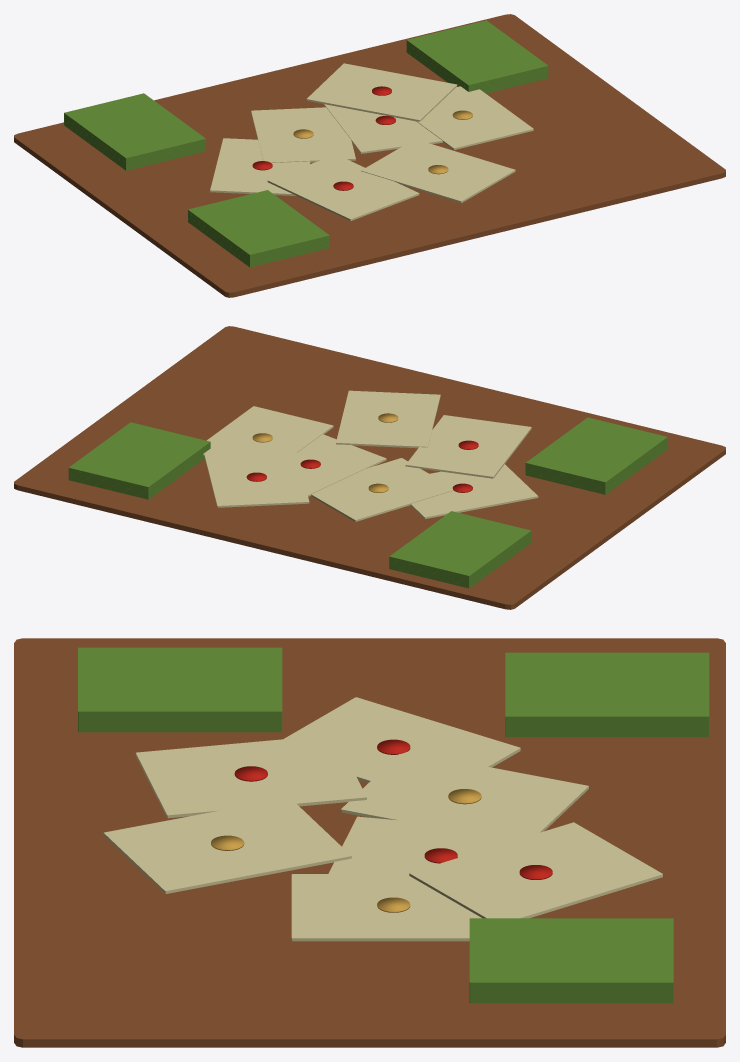
3 renders of one model, top to bottom at view 1: azimuth 30°, elevation 25°; view 2: azimuth 150°, elevation 25°; view 3: azimuth 270°, elevation 25°, orthographic. The views are drawn at different scales.
Parts seen in each view (by area): view 1: TI062 / wooden game surface, TI062 / stacked green-backed card.023, TI062 / stacked green-backed card.015, TI062 / stacked green-backed card.007, TI062 / ivory card.006, TI062 / ivory card.005, TI062 / ivory card.004, TI062 / ivory card.001, TI062 / ivory card.003, TI062 / ivory card, TI062 / ivory card.002; view 2: TI062 / wooden game surface, TI062 / stacked green-backed card.007, TI062 / stacked green-backed card.015, TI062 / stacked green-backed card.023, TI062 / ivory card.006, TI062 / ivory card.005, TI062 / ivory card.004, TI062 / ivory card.001, TI062 / ivory card.003, TI062 / ivory card, TI062 / ivory card.002; view 3: TI062 / wooden game surface, TI062 / stacked green-backed card.007, TI062 / stacked green-backed card.023, TI062 / stacked green-backed card.015, TI062 / ivory card.005, TI062 / ivory card.006, TI062 / ivory card.004, TI062 / ivory card.001, TI062 / ivory card.003, TI062 / ivory card, TI062 / ivory card.002, TI062 / stacked green-backed card.002 (+5 smaller).
Part boxes in pixels (left/top/right/bottom): TI062 / wooden game surface: left=14, top=14, right=725, bottom=297; TI062 / stacked green-backed card.023: left=64, top=93, right=205, bottom=159; TI062 / stacked green-backed card.015: left=406, top=20, right=548, bottom=86; TI062 / stacked green-backed card.007: left=188, top=190, right=329, bottom=256; TI062 / ivory card.006: left=306, top=63, right=457, bottom=121; TI062 / ivory card.005: left=361, top=139, right=515, bottom=203; TI062 / ivory card.004: left=267, top=154, right=419, bottom=220; TI062 / ivory card.001: left=251, top=107, right=355, bottom=162; TI062 / ivory card.003: left=416, top=86, right=533, bottom=149; TI062 / ivory card: left=210, top=138, right=310, bottom=195; TI062 / ivory card.002: left=323, top=104, right=442, bottom=153; TI062 / wooden game surface: left=14, top=326, right=725, bottom=609; TI062 / stacked green-backed card.007: left=525, top=417, right=667, bottom=483; TI062 / stacked green-backed card.015: left=68, top=422, right=210, bottom=488; TI062 / stacked green-backed card.023: left=389, top=511, right=531, bottom=577; TI062 / ivory card.006: left=204, top=449, right=309, bottom=507; TI062 / ivory card.005: left=336, top=390, right=440, bottom=448; TI062 / ivory card.004: left=405, top=415, right=531, bottom=478; TI062 / ivory card.001: left=311, top=458, right=453, bottom=521; TI062 / ivory card.003: left=202, top=406, right=333, bottom=456; TI062 / ivory card: left=410, top=464, right=538, bottom=518; TI062 / ivory card.002: left=297, top=434, right=386, bottom=496; TI062 / wooden game surface: left=14, top=638, right=725, bottom=1047; TI062 / stacked green-backed card.007: left=78, top=647, right=282, bottom=714; TI062 / stacked green-backed card.023: left=505, top=652, right=709, bottom=719; TI062 / stacked green-backed card.015: left=469, top=918, right=673, bottom=984; TI062 / ivory card.005: left=103, top=797, right=351, bottom=893; TI062 / ivory card.006: left=409, top=822, right=662, bottom=918; TI062 / ivory card.004: left=135, top=734, right=366, bottom=818; TI062 / ivory card.001: left=341, top=751, right=588, bottom=832; TI062 / ivory card.003: left=291, top=874, right=481, bottom=941; TI062 / ivory card: left=283, top=697, right=520, bottom=782; TI062 / ivory card.002: left=328, top=816, right=537, bottom=873; TI062 / stacked green-backed card.002: left=78, top=724, right=282, bottom=727.
Bounding box in the file's own units: 4 × 0.15 × 3.
